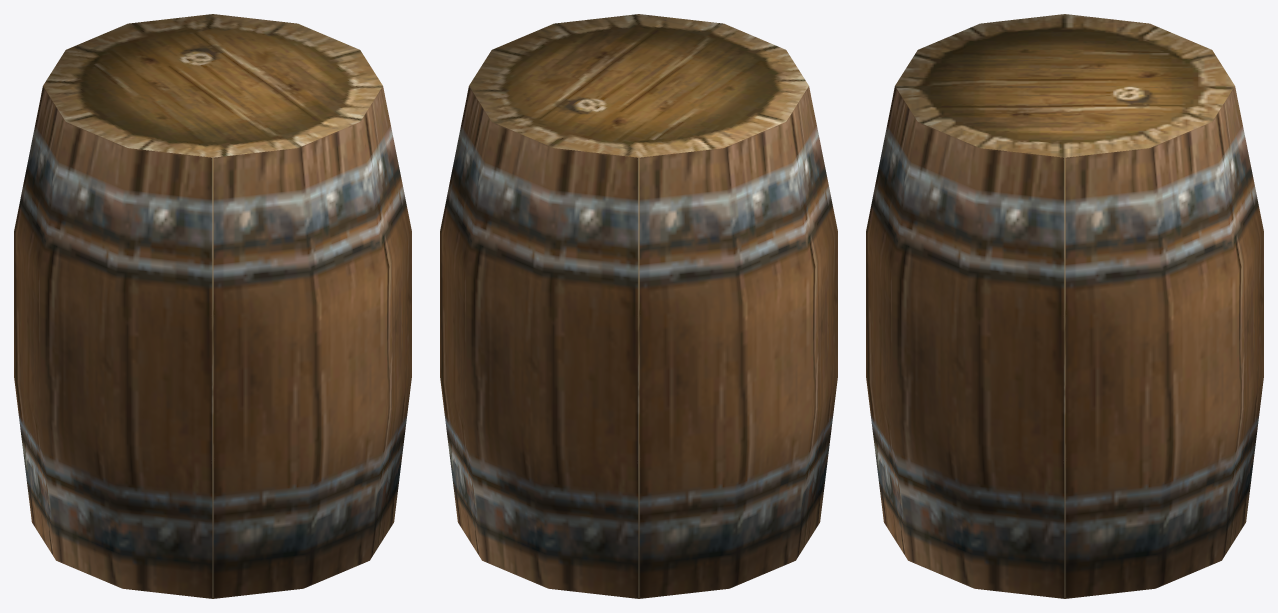
The model's file is innbarrel.obj.
3 renders of one model, left to right at view 1: azimuth 30°, elevation 25°; view 2: azimuth 150°, elevation 25°; view 3: azimuth 270°, elevation 25°, orthographic.
Parts seen in each view (by area): view 1: innbarrel; view 2: innbarrel; view 3: innbarrel.
Part boxes in pixels (box(x1,y1,x2,y2)): innbarrel: box(14, 14, 411, 598); innbarrel: box(440, 14, 837, 598); innbarrel: box(866, 14, 1263, 598).
Size of the model in its own units: 1.38 by 1.67 by 1.38.
Materials: 1 (1 with a texture image).
